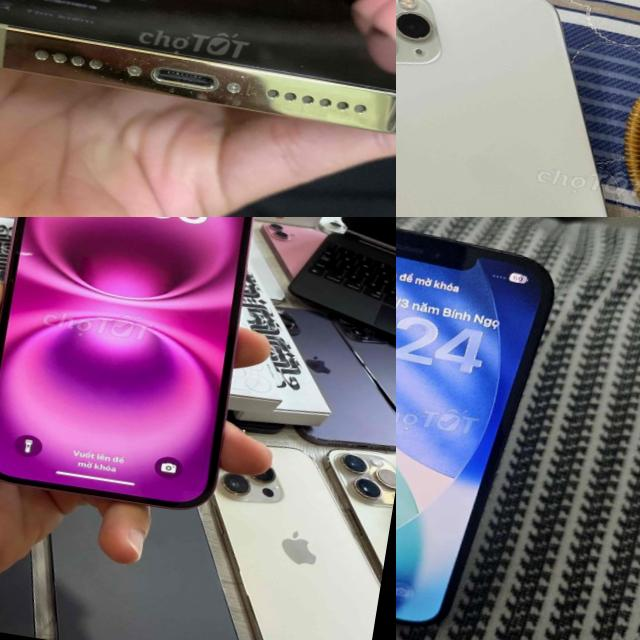gen_11: (396, 0, 640, 217)
gen_12_13: (396, 217, 556, 640)
gen_14: (0, 0, 396, 171)
gen_16: (0, 217, 290, 528)
